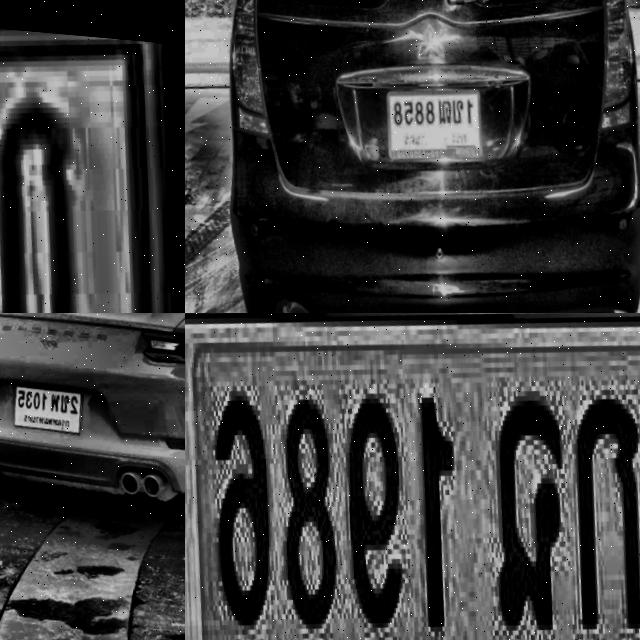license-plate: (185, 313, 640, 640), (0, 0, 185, 313), (383, 71, 492, 162), (5, 362, 98, 439)
